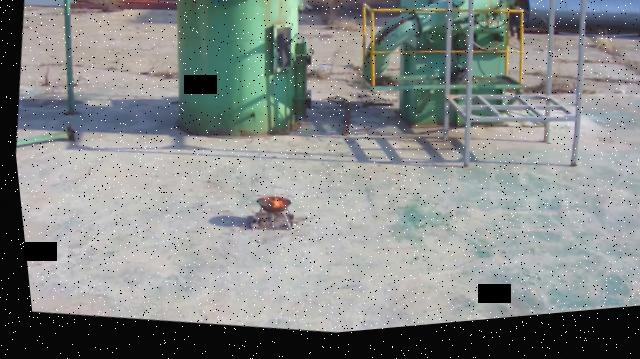fire: (257, 198, 283, 215)
